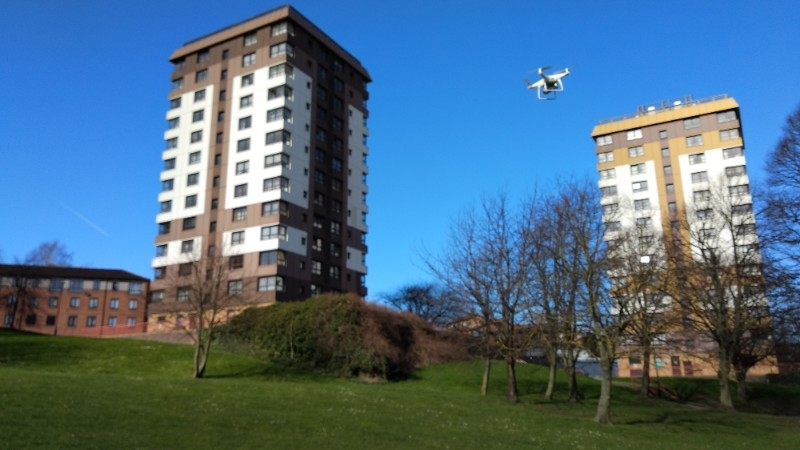drone: (522, 63, 577, 102)
